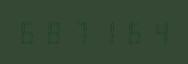eight: (42, 20, 66, 44)
four: (143, 20, 167, 44)
one: (93, 20, 117, 44)
seven: (68, 20, 92, 44)
six: (17, 20, 41, 44), (118, 20, 142, 44)
